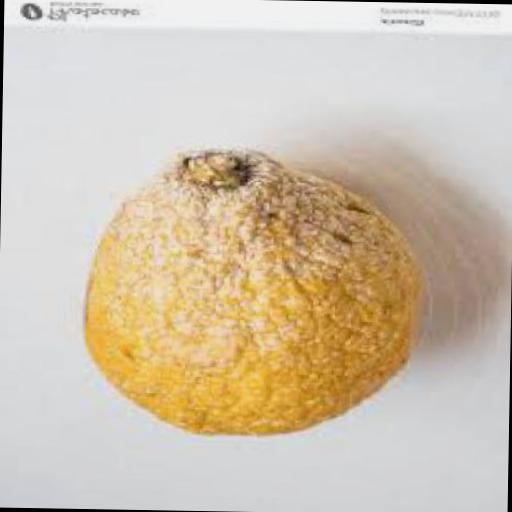biodegradable: (82, 150, 424, 444)
